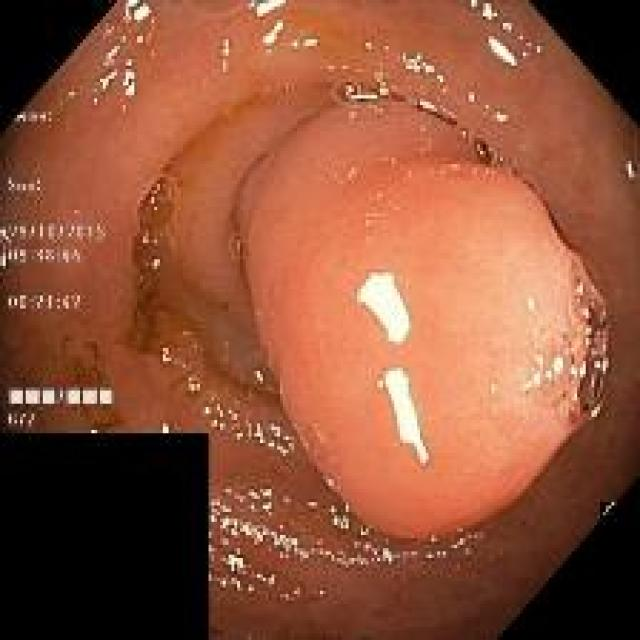Polyps: (235, 103, 609, 539)
